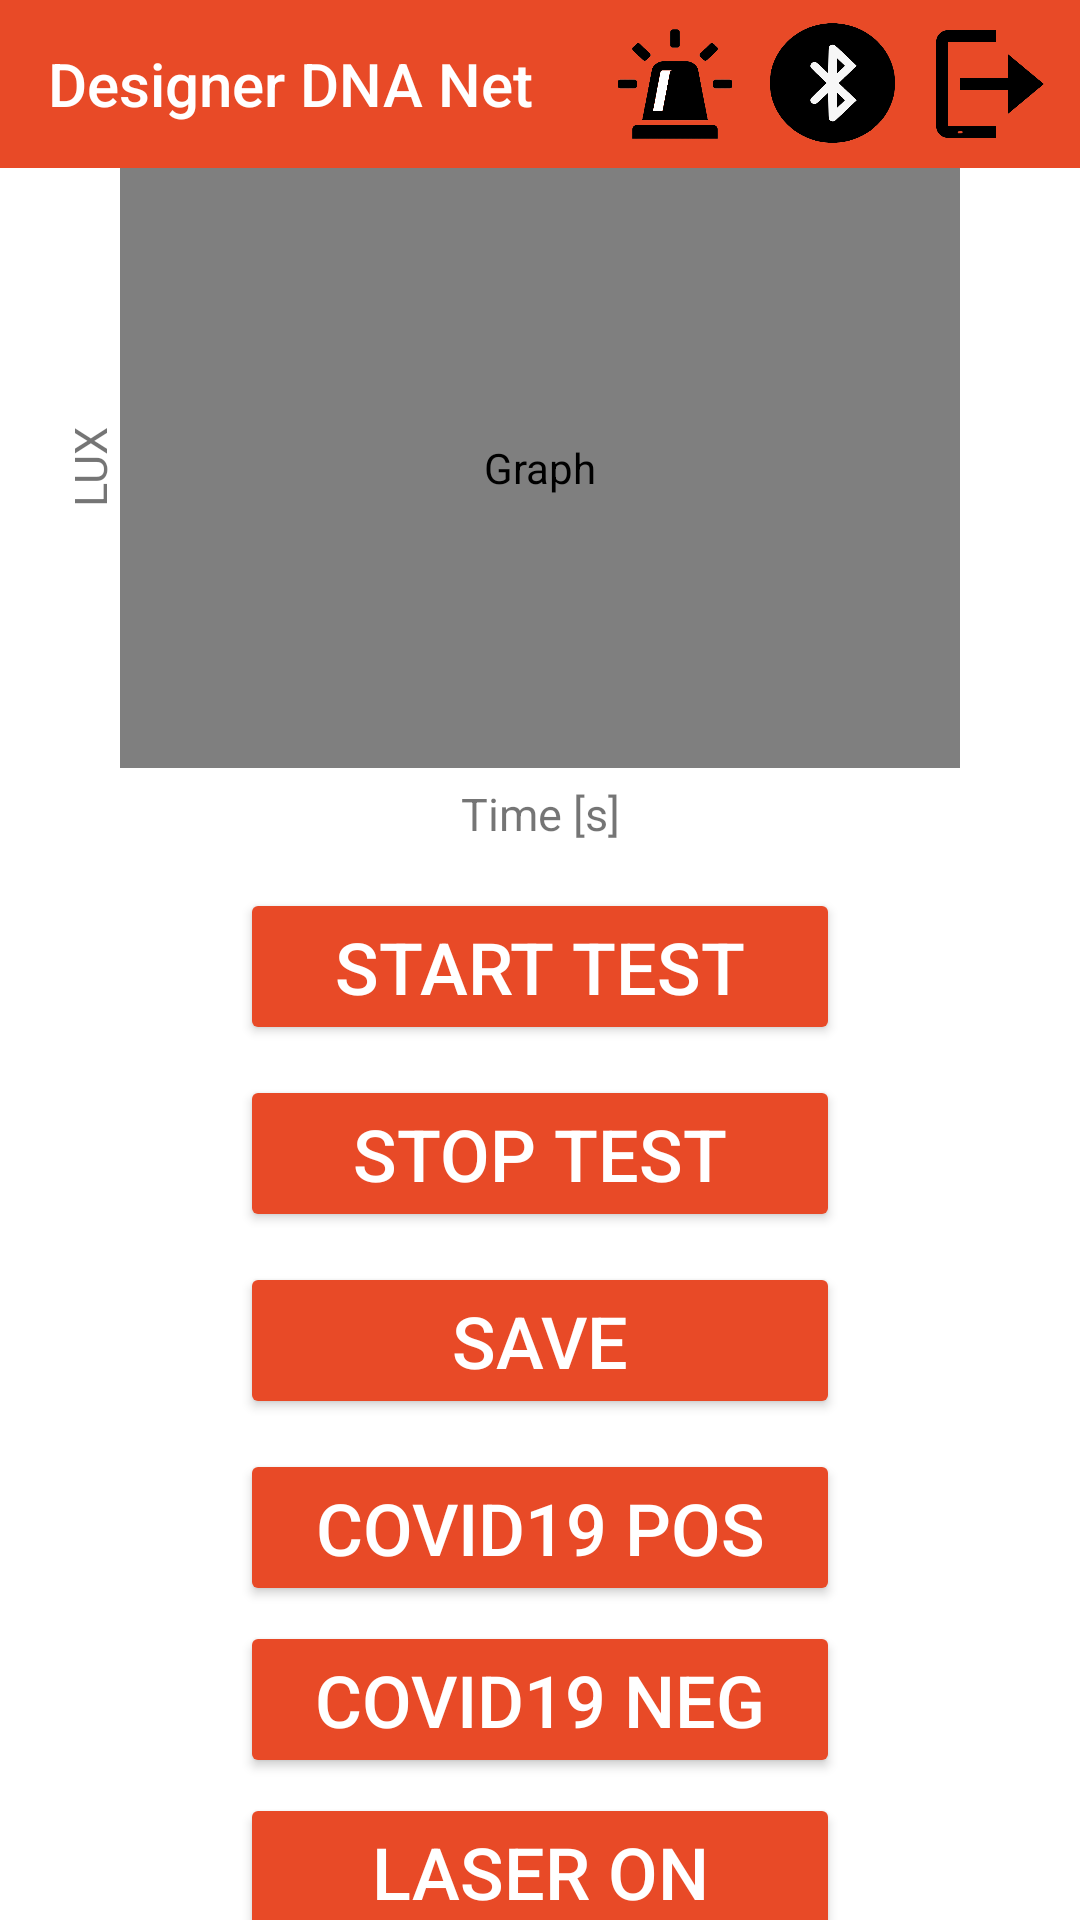

Where icons sit on this 1080x1920 app screen, as (x1, y1, x2, y2):
beacon: (618, 29, 732, 139)
